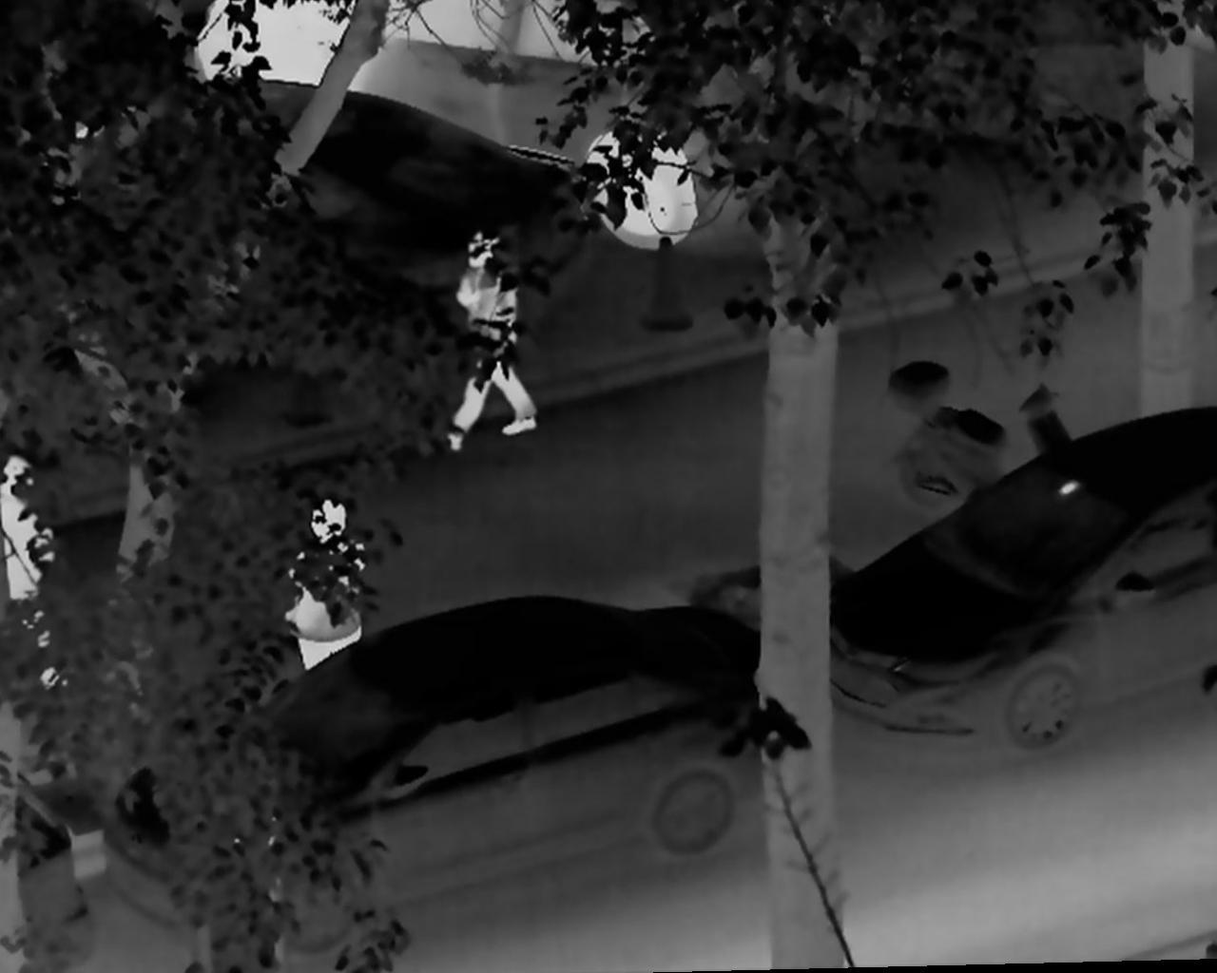person: (434, 228, 542, 455), (273, 488, 379, 681)
